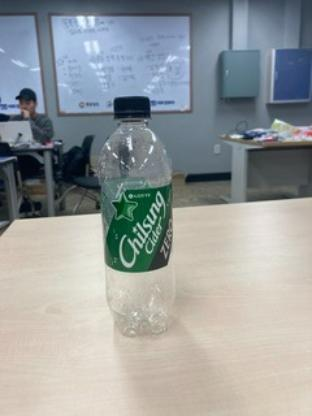Plastic Bottle: (98, 90, 178, 346)
